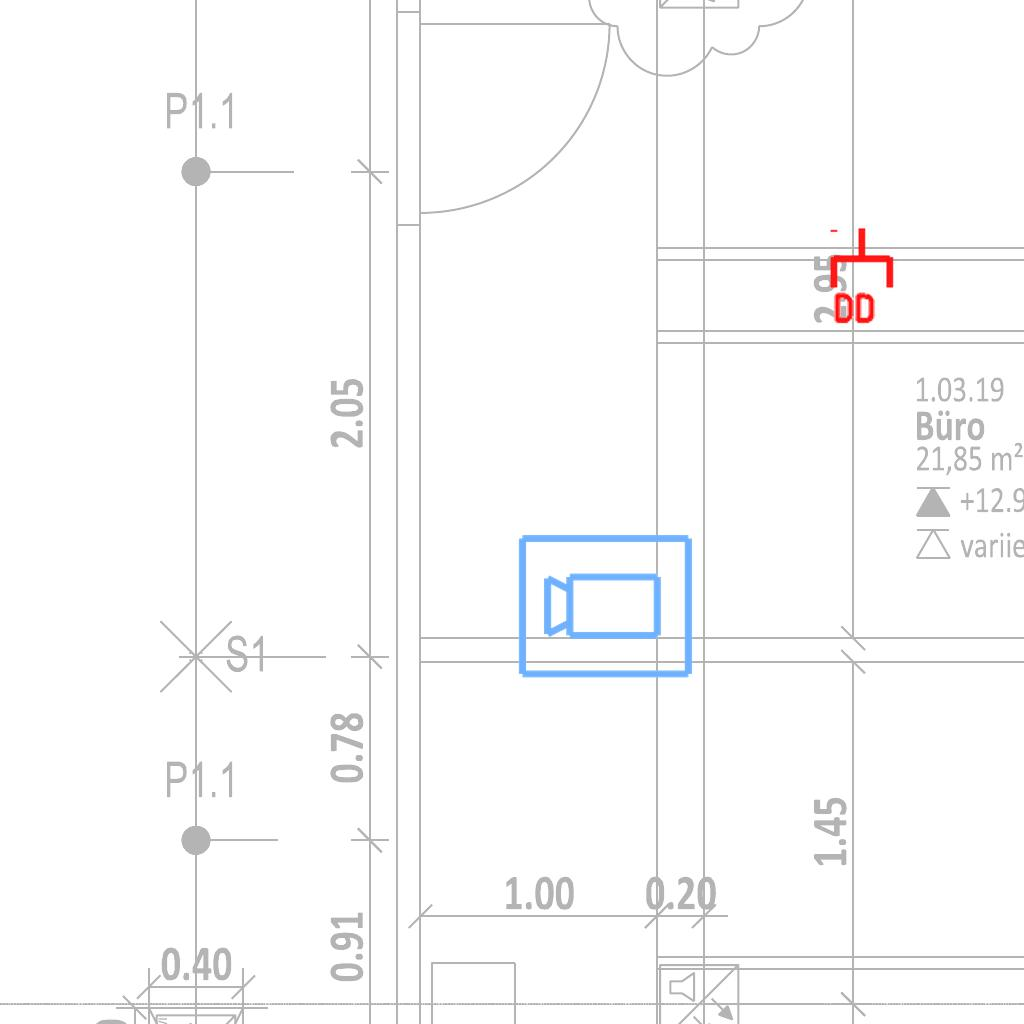Datenanschluss_zweifach: (829, 225, 898, 328)
KFO_Kamera_mit_Festobjektiv: (515, 528, 697, 682)
